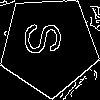S: (24, 20, 70, 56)
